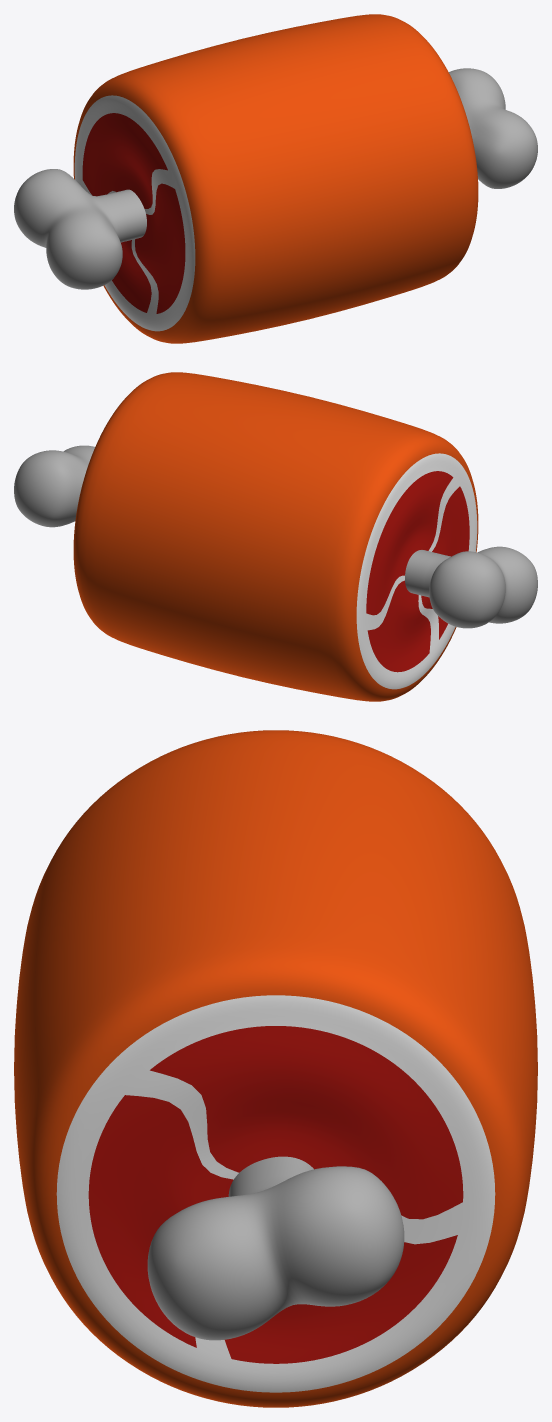
Rendered from goal.glb.
3 views of the same model, one above another, from view 1: azimuth 30°, elevation 25°; view 2: azimuth 150°, elevation 25°; view 3: azimuth 270°, elevation 25° (orthographic). The views are drawn at different scales.
Visible parts, largest first — view 1: Cylinder_2, Cube_1; view 2: Cylinder_2, Cube_1; view 3: Cylinder_2, Cube_1.
Part boxes in pixels (left/top/right/bottom): Cylinder_2: left=73, top=14, right=478, bottom=343; Cube_1: left=14, top=68, right=537, bottom=289; Cylinder_2: left=73, top=372, right=478, bottom=701; Cube_1: left=14, top=445, right=537, bottom=628; Cylinder_2: left=14, top=730, right=537, bottom=1407; Cube_1: left=147, top=1156, right=404, bottom=1340.
Size of the model in its own units: 7.6 by 3.95 by 3.95.
